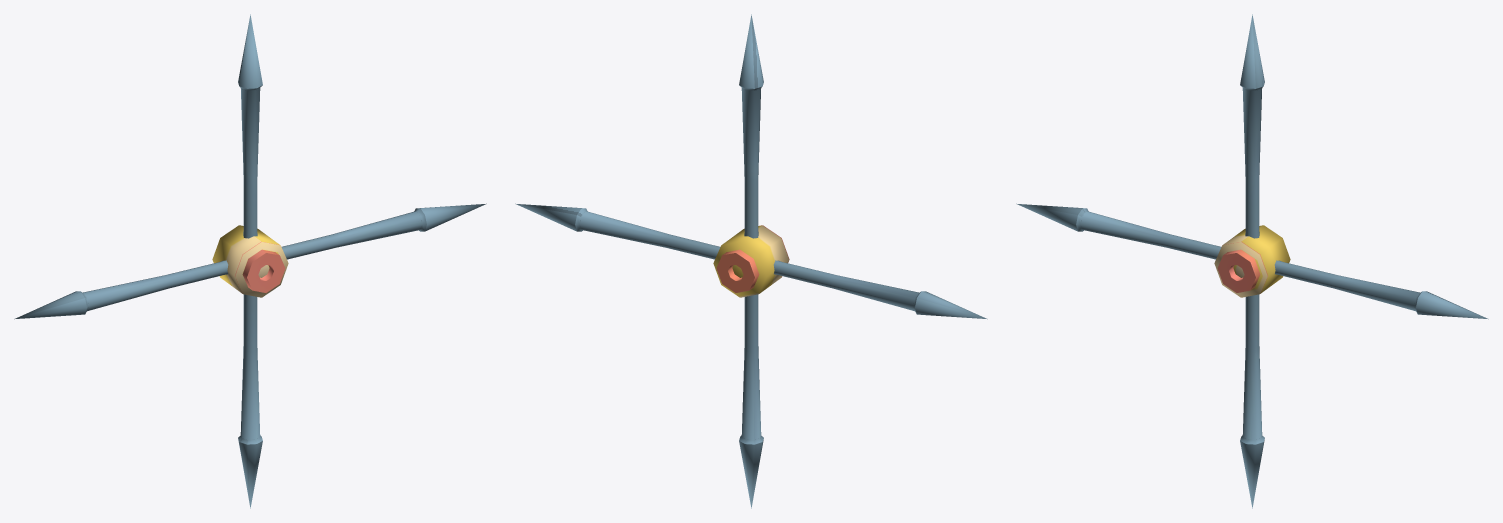
The model's file is spiker.fbx.
3 views of the same model, side by side, from view 1: azimuth 30°, elevation 25°; view 2: azimuth 150°, elevation 25°; view 3: azimuth 330°, elevation 25° (orthographic).
Visible parts, largest first — view 1: spikes s; view 2: spikes s; view 3: spikes s.
Boxes of the visible parts, x1,y1,x2,y2 form: spikes s: [14, 14, 486, 508]; spikes s: [515, 14, 987, 508]; spikes s: [1016, 14, 1488, 508].
Bounding box in the file's own units: 747 × 747 × 86.01.
